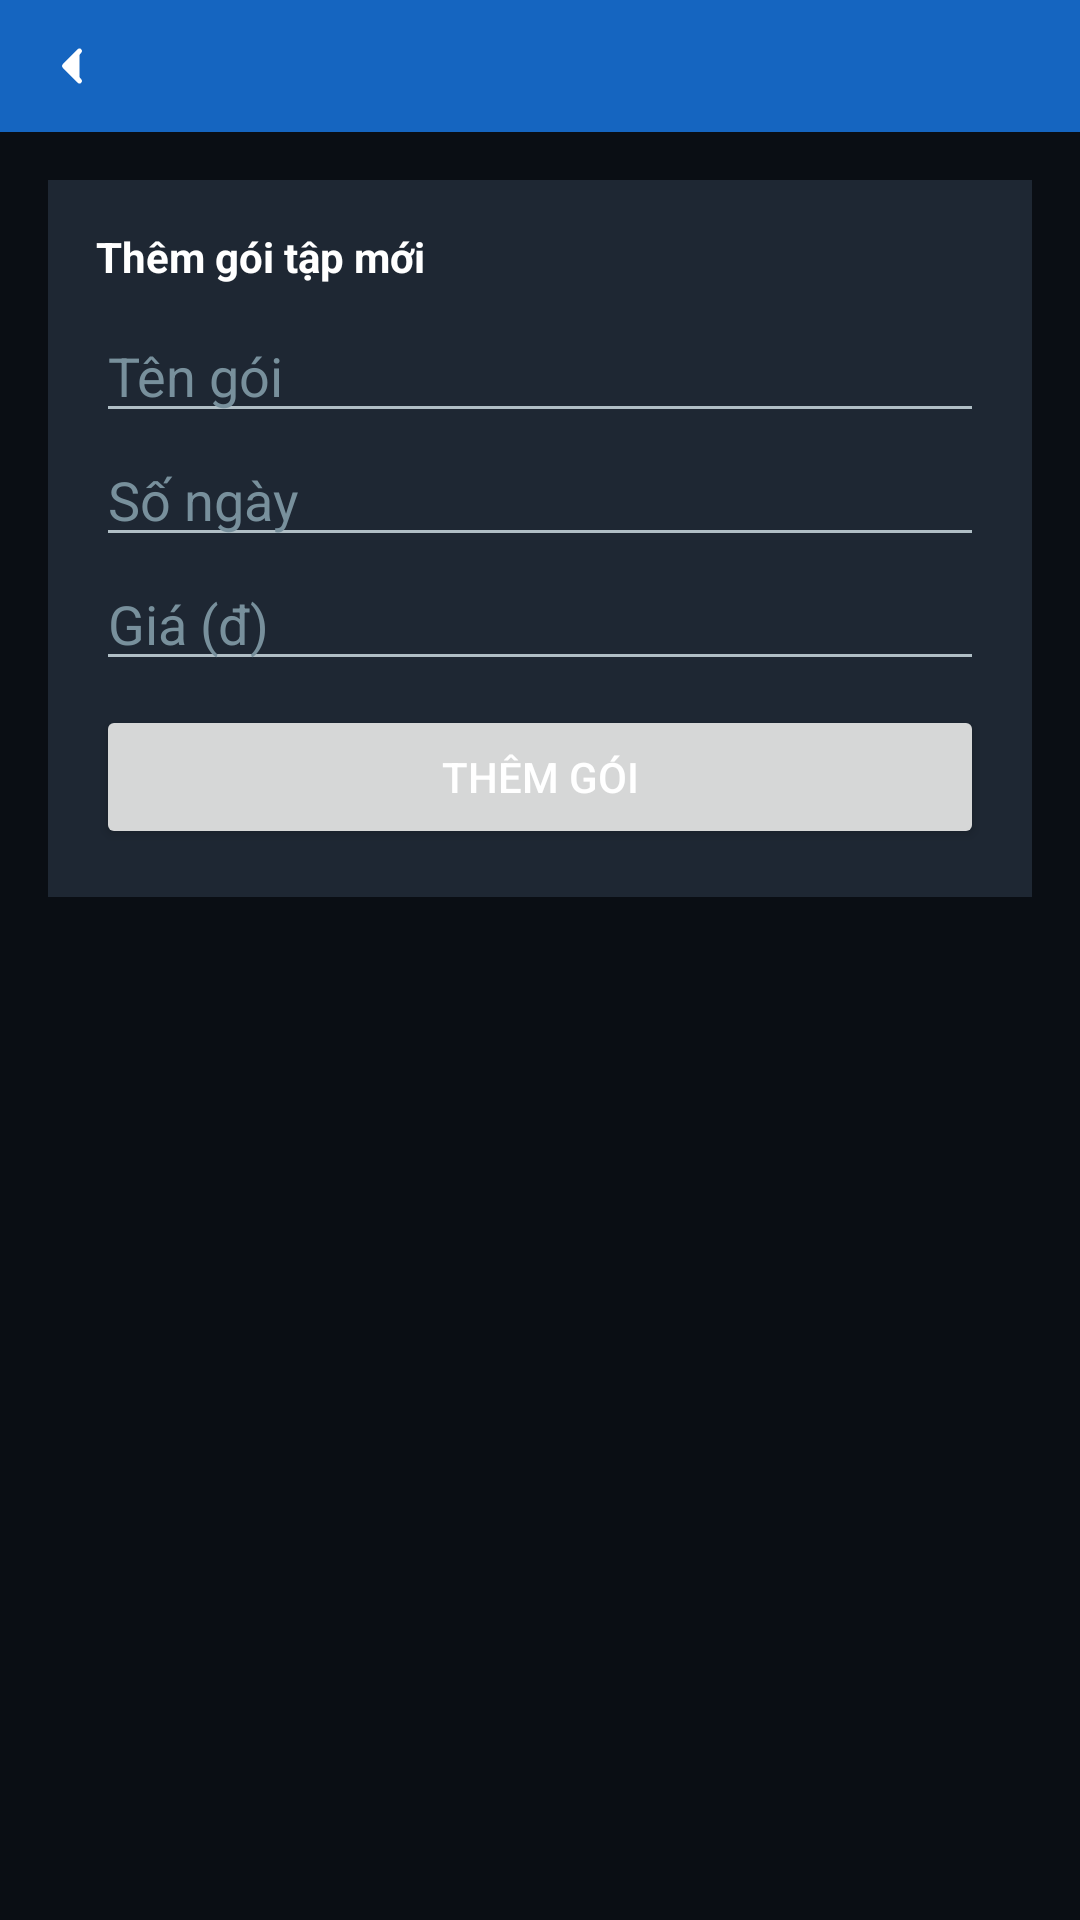

Locate icon controls on the screen. Image size 1080 × 1920, boxes as BBox(x1, y1, x2, y2).
Quay lại: BBox(62, 48, 82, 84)
